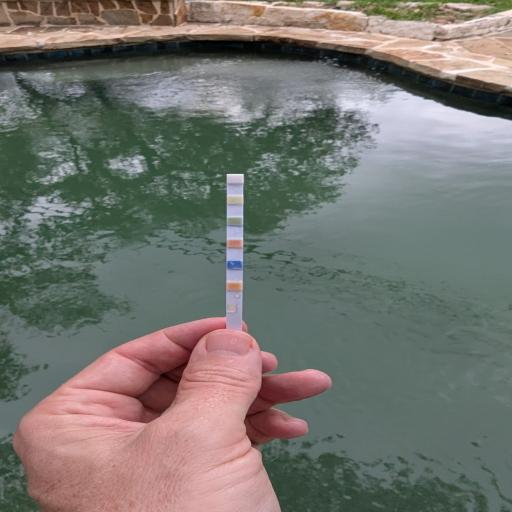strip: (227, 174, 244, 330)
